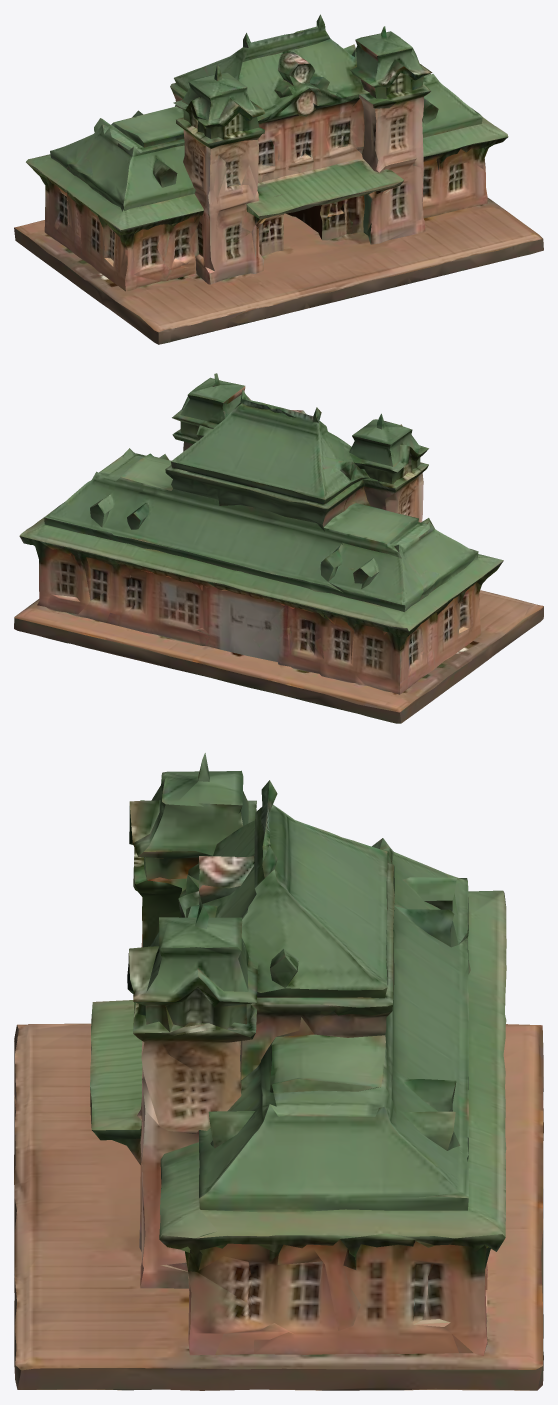
File: mojiko-station.glb
3 views of the same model, one above another, from view 1: azimuth 30°, elevation 25°; view 2: azimuth 150°, elevation 25°; view 3: azimuth 270°, elevation 25° (orthographic). The views are drawn at different scales.
Visible parts, largest first — view 1: logan-textured.obj; view 2: logan-textured.obj; view 3: logan-textured.obj.
Boxes of the visible parts, x1,y1,x2,y2 form: logan-textured.obj: [14, 14, 543, 344]; logan-textured.obj: [14, 373, 543, 723]; logan-textured.obj: [14, 753, 543, 1390].
Bounding box in the file's own units: 1 × 0.5477 × 0.6442.
Materials: 1 (1 with a texture image).
